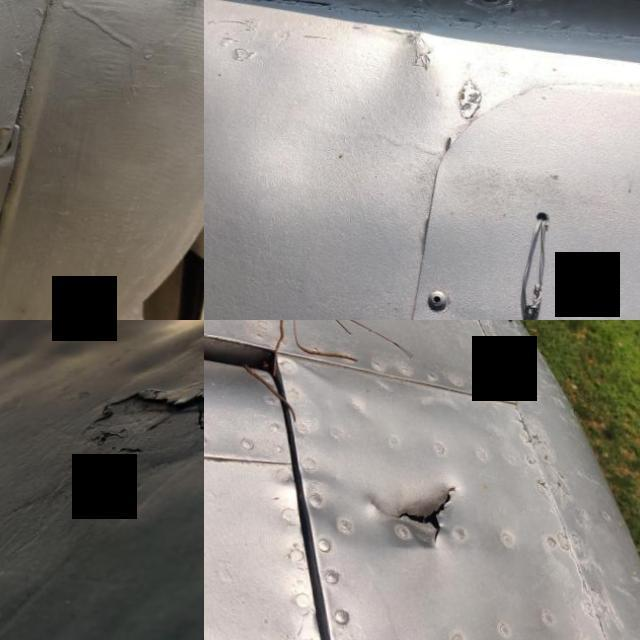Crack: (66, 351, 204, 455), (352, 478, 463, 558)
Dent: (233, 0, 470, 227), (116, 320, 204, 351)
Missing_Fastener: (0, 110, 20, 185)
